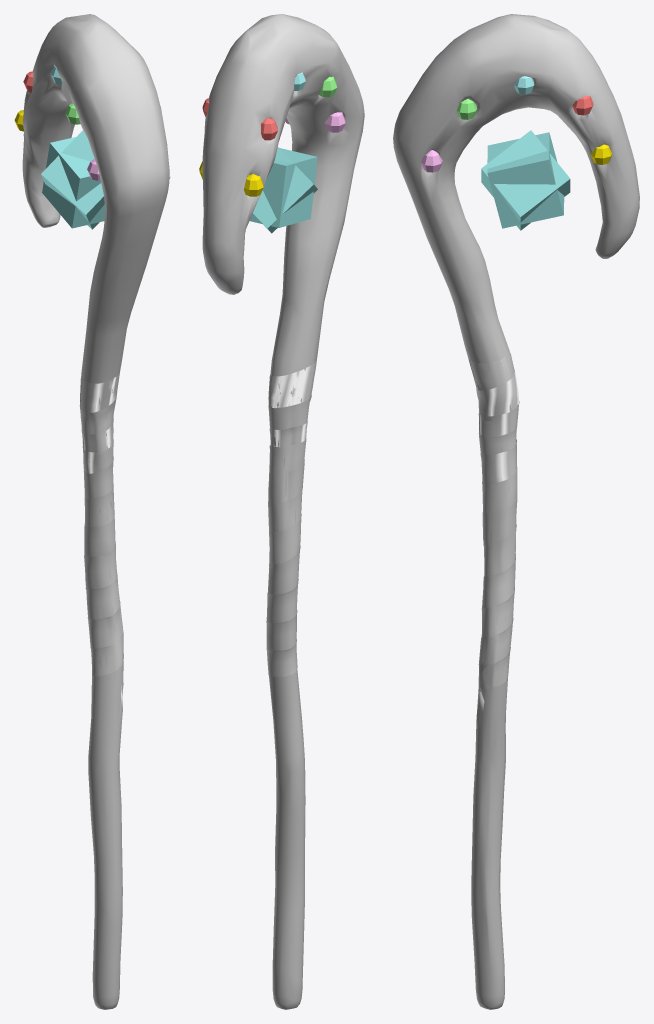
Rendered from uploads_files_3210786_magical+staff.fbx.
3 views of the same model, side by side, from view 1: azimuth 30°, elevation 25°; view 2: azimuth 150°, elevation 25°; view 3: azimuth 270°, elevation 25° (orthographic). The views are drawn at different scales.
Parts seen in each view (by area): view 1: Cylinder, Plane, Cube.001, Cube; view 2: Cylinder, Plane, Cube.001, Cube; view 3: Cylinder, Plane, Cube.001, Cube.
Boxes of the visible parts, bbox=[...] form: Cylinder: bbox=[22, 14, 169, 1009]; Plane: bbox=[79, 372, 123, 728]; Cube.001: bbox=[42, 137, 105, 228]; Cube: bbox=[41, 130, 104, 229]; Cylinder: bbox=[202, 14, 364, 1009]; Plane: bbox=[266, 351, 316, 676]; Cube.001: bbox=[249, 148, 317, 227]; Cube: bbox=[253, 147, 317, 233]; Cylinder: bbox=[393, 14, 639, 1009]; Plane: bbox=[468, 357, 519, 729]; Cube.001: bbox=[487, 132, 564, 228]; Cube: bbox=[481, 130, 570, 230].
Bounding box in the file's own units: 18.03 × 188 × 42.52.
